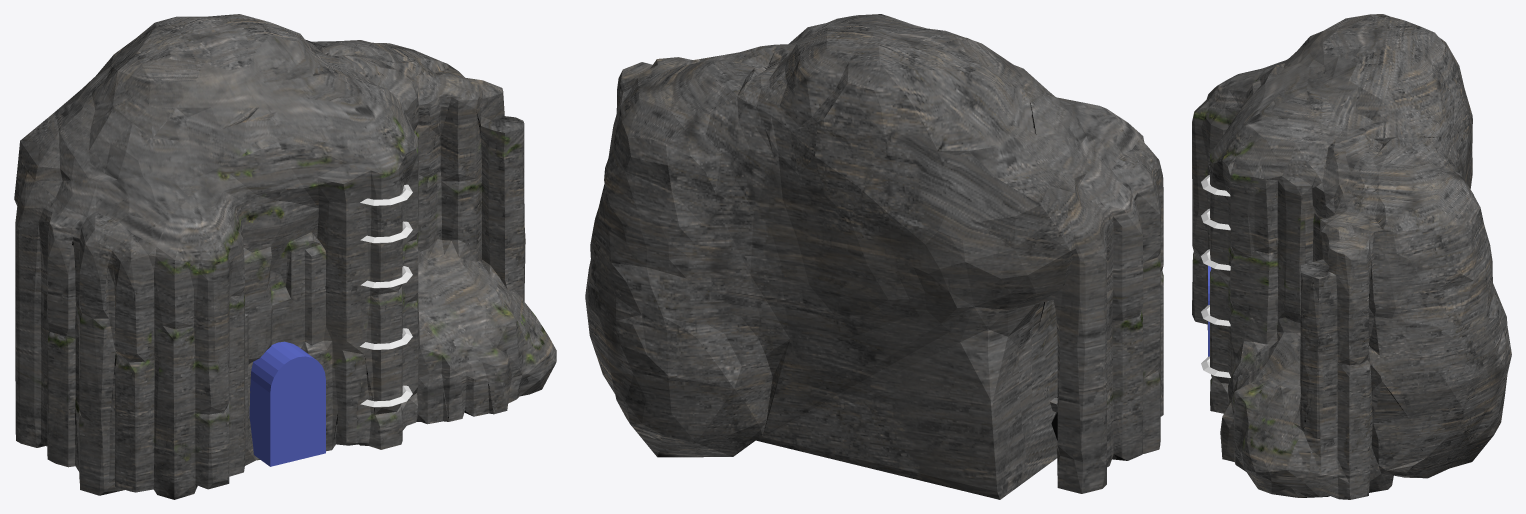
The model's file is Cave Exterior.fbx.
3 renders of one model, left to right at view 1: azimuth 30°, elevation 25°; view 2: azimuth 150°, elevation 25°; view 3: azimuth 270°, elevation 25°, orthographic. The views are drawn at different scales.
Parts seen in each view (by area): view 1: Cave, Window; view 2: Cave; view 3: Cave.
Part boxes in pixels (x1,y1,x2,y2): Cave: [14, 14, 556, 499]; Window: [249, 341, 325, 466]; Cave: [585, 14, 1163, 499]; Cave: [1192, 14, 1511, 499].
Size of the model in its own units: 2225 by 1796 by 1420.
2 materials, 1 textured.
